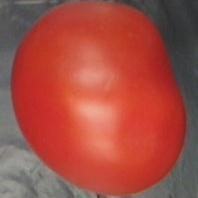unripe: (7, 0, 189, 198)
